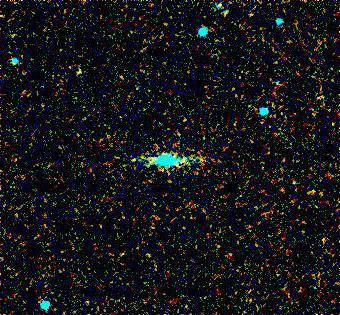star: (118, 146, 148, 176)
